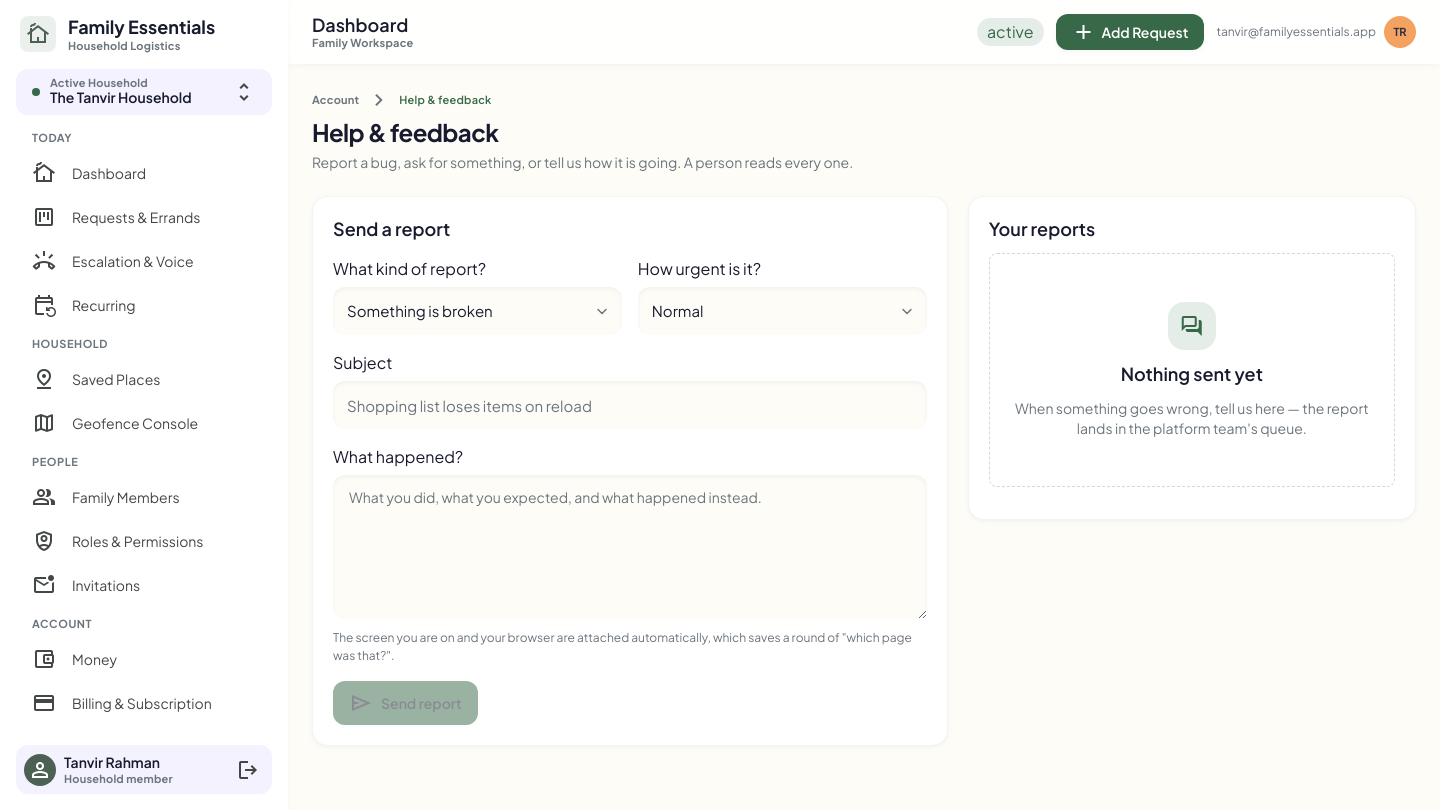
help & feedback › will not send a report that has no detail in it
Expected: the button "Send report" is disabled, x1=333 y1=681 x2=478 y2=725
Type "Short" into the field labelled "Subject" at (630, 405), box x1=333 y1=381 x2=927 y2=429
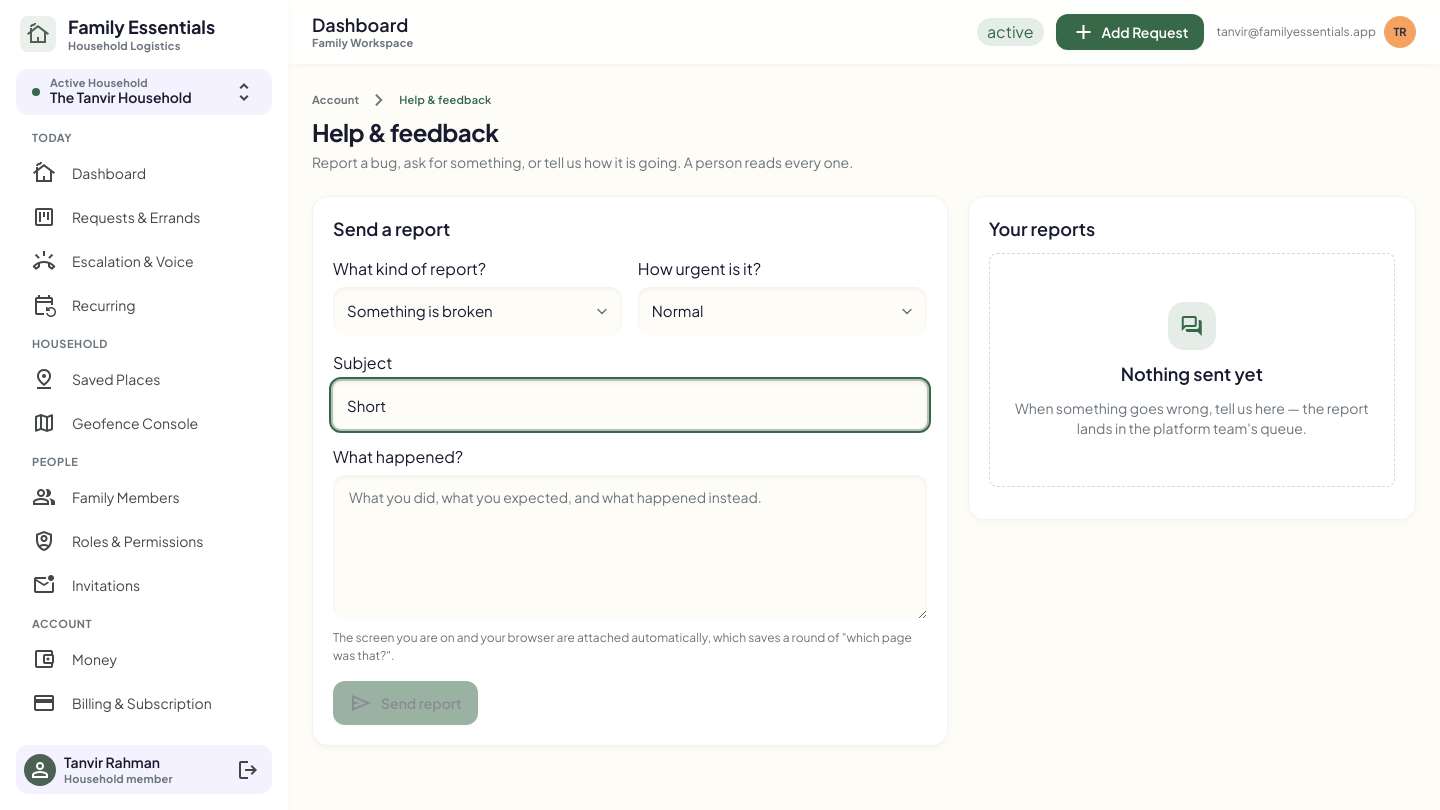
Type "tiny" into the text box labelled "What happened?" at (630, 547), box x1=333 y1=475 x2=927 y2=619
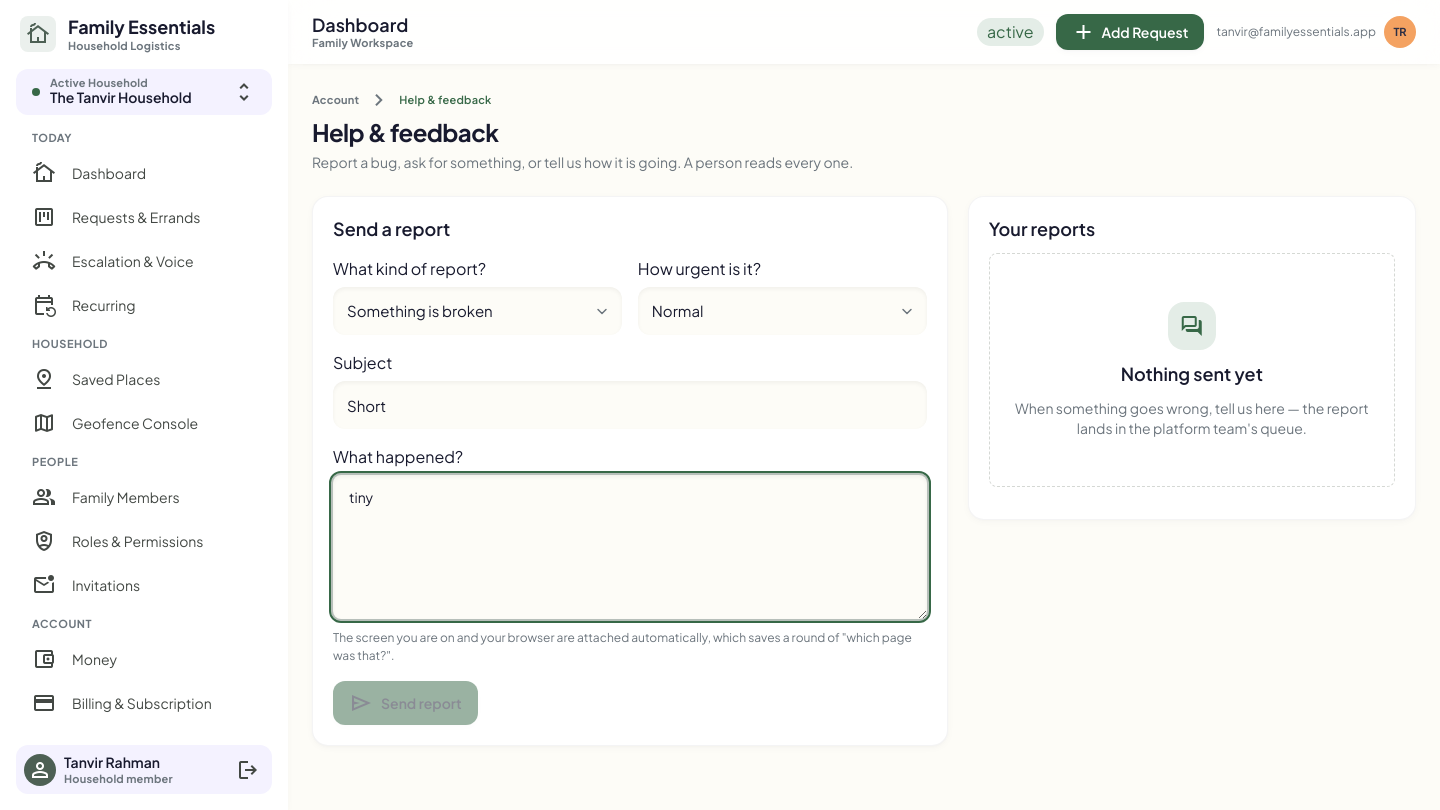
Expected: the button "Send report" is disabled, x1=333 y1=681 x2=478 y2=725
Type " but this is enough detail to act on." into the text box labelled "What happened?" at (630, 547), box x1=333 y1=475 x2=927 y2=619
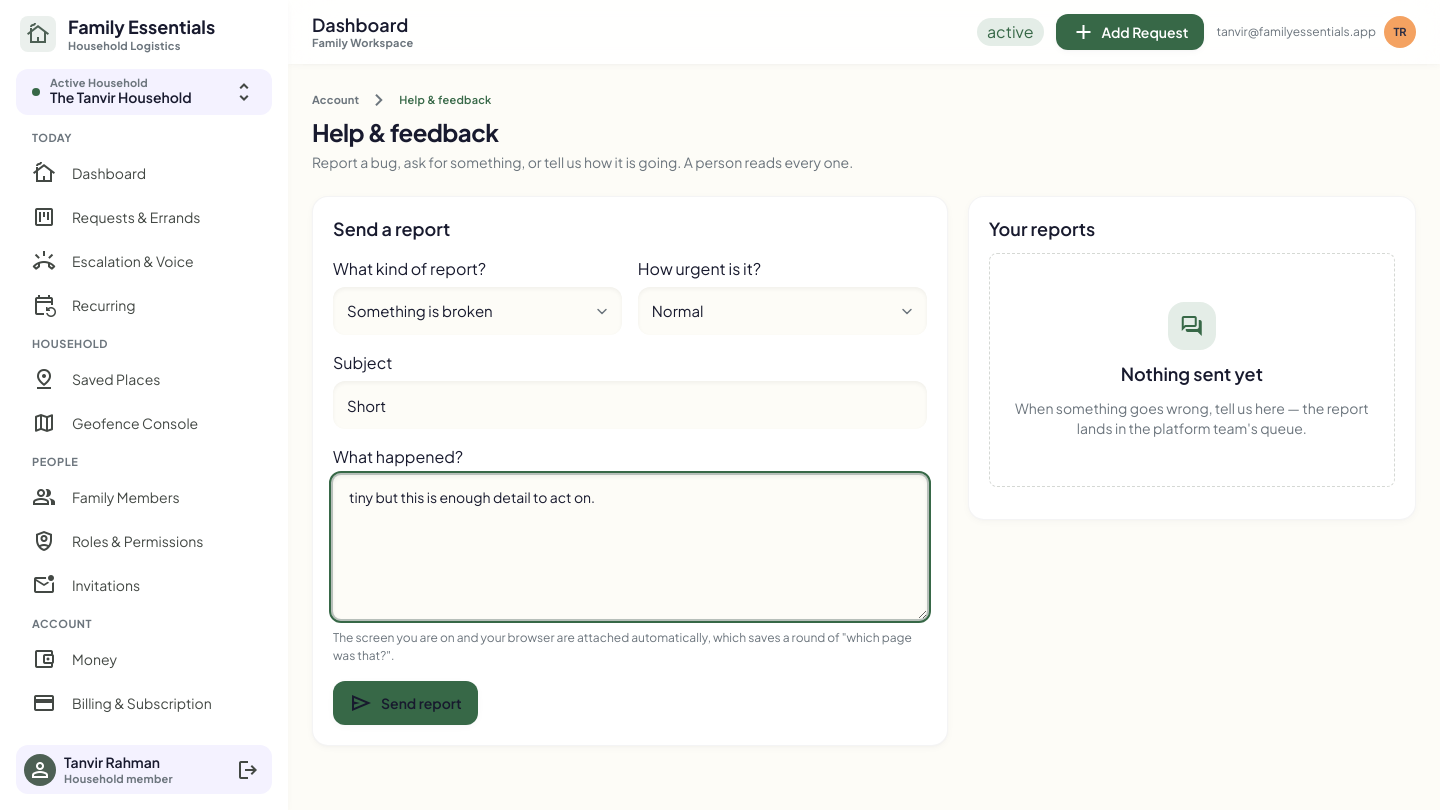
Expected: the button "Send report" is enabled, x1=333 y1=681 x2=478 y2=725
